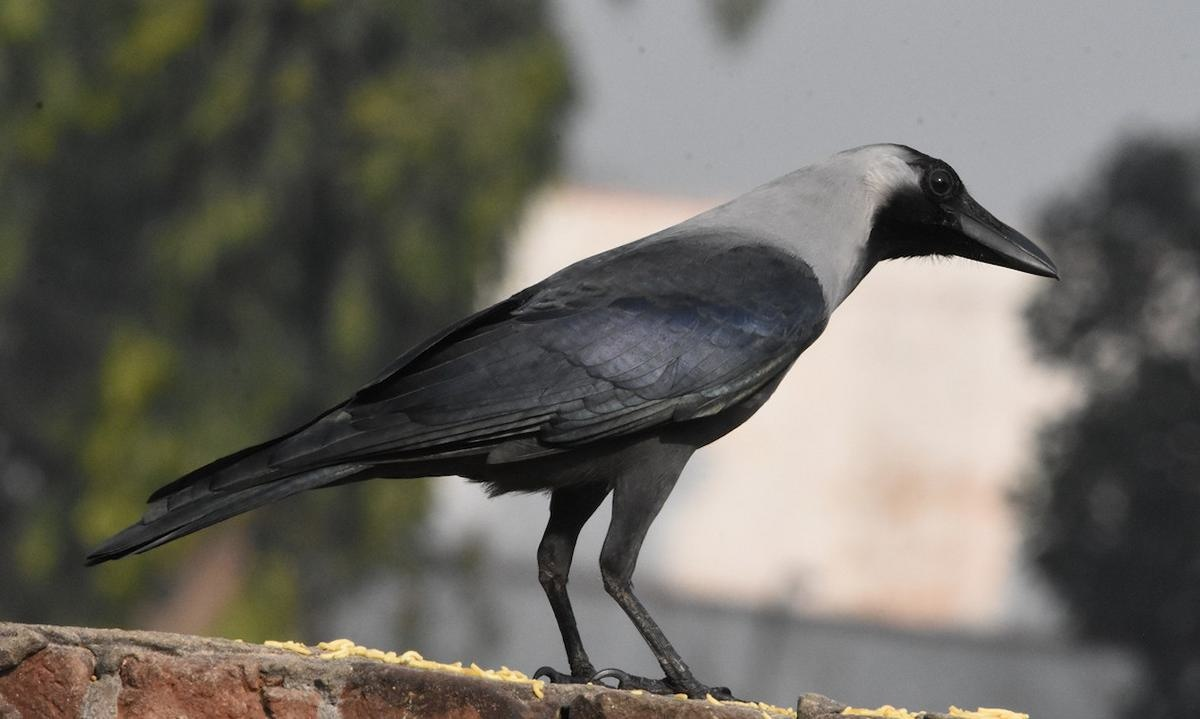crow: (111, 134, 1057, 661)
